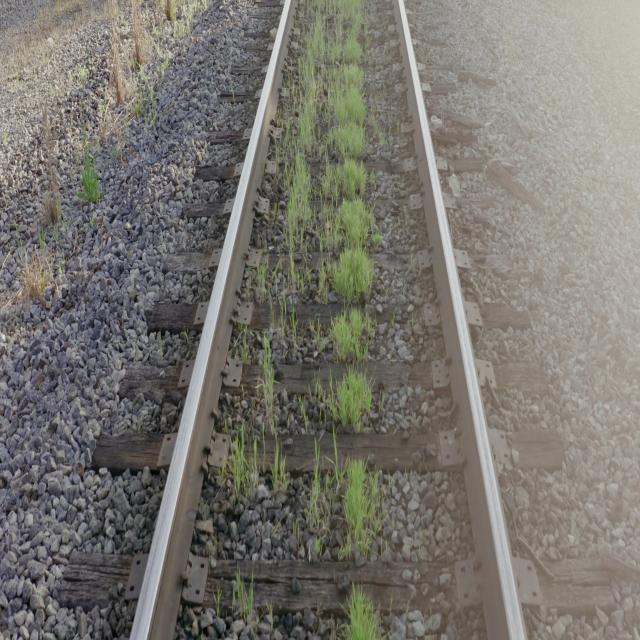Plant: (286, 2, 374, 369), (306, 447, 381, 558), (320, 371, 371, 427), (230, 424, 259, 500), (346, 584, 379, 640), (349, 587, 379, 638), (262, 333, 276, 433), (271, 447, 289, 493), (235, 584, 255, 622), (258, 258, 269, 300), (290, 258, 296, 282)
